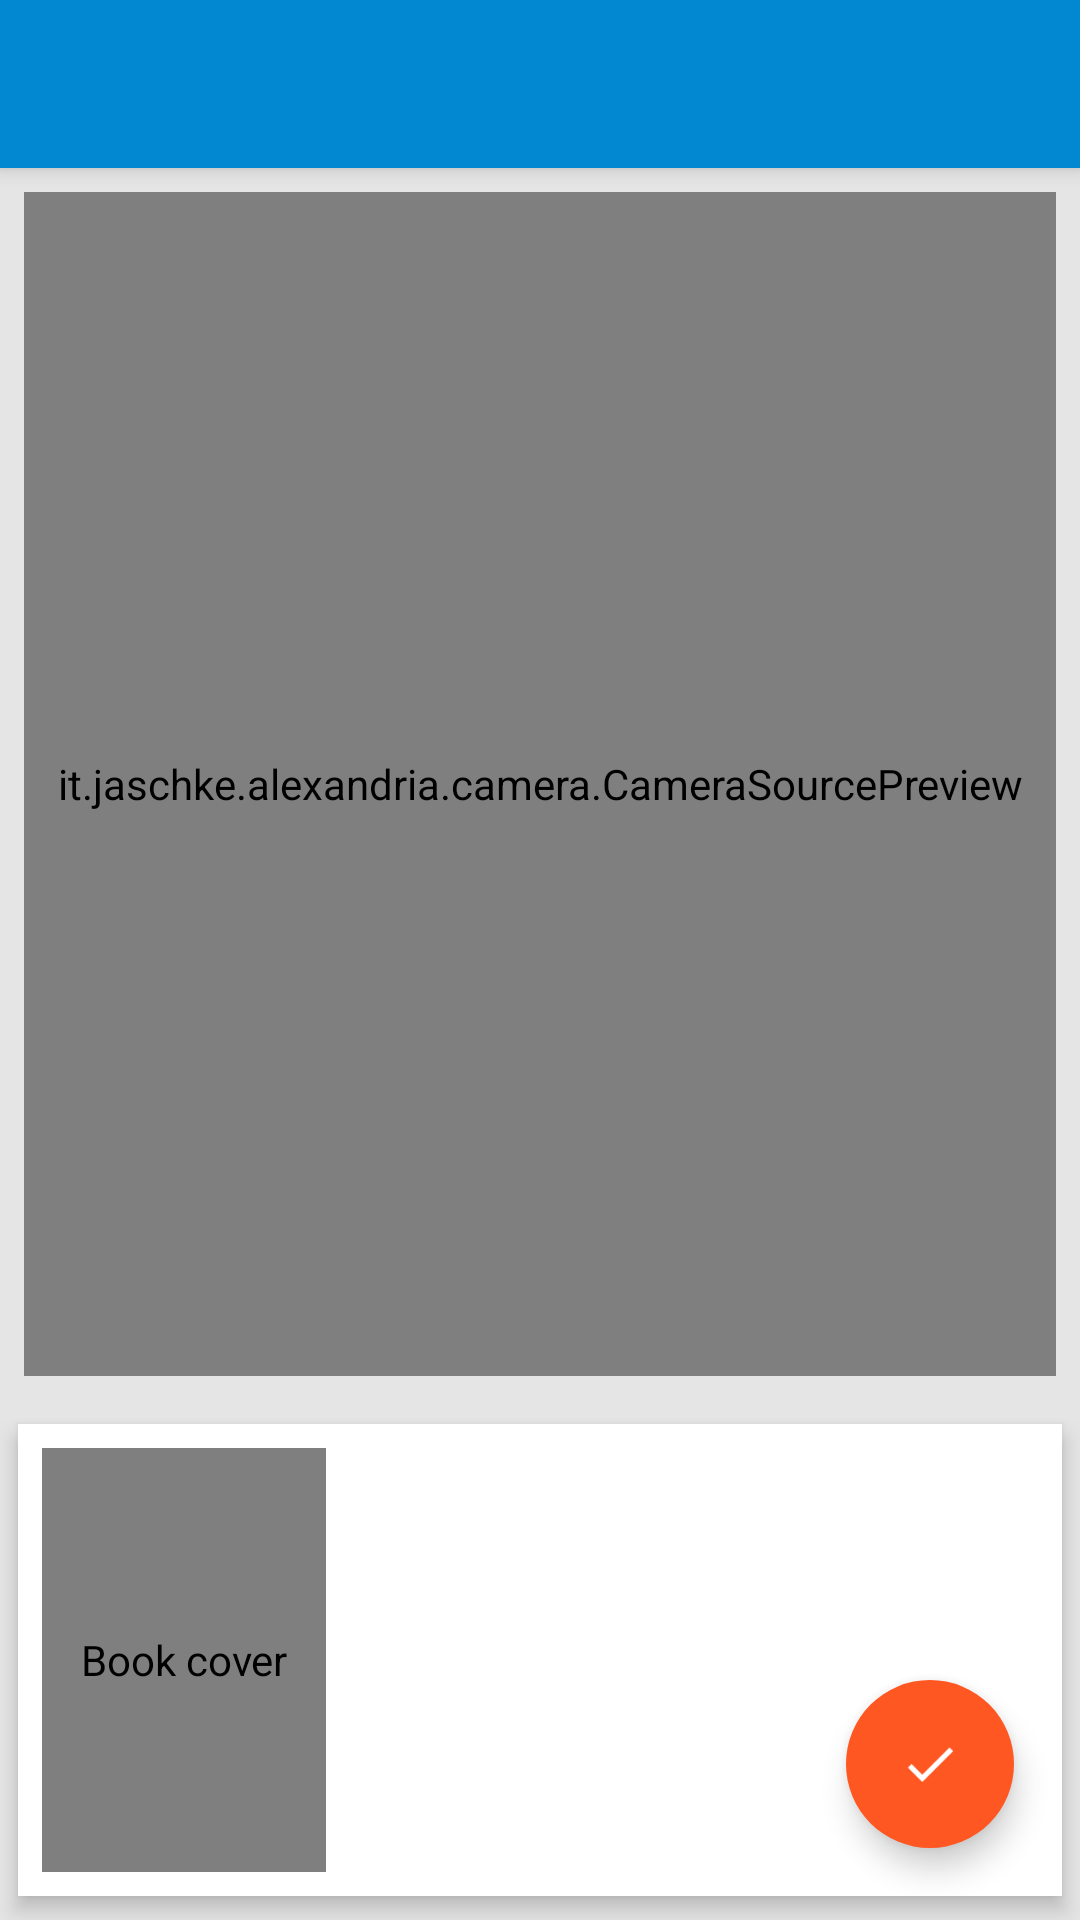

Icons on this 1080 × 1920 Android screen, each with the point to tap as [x,y]:
fab check: [930,1764]
